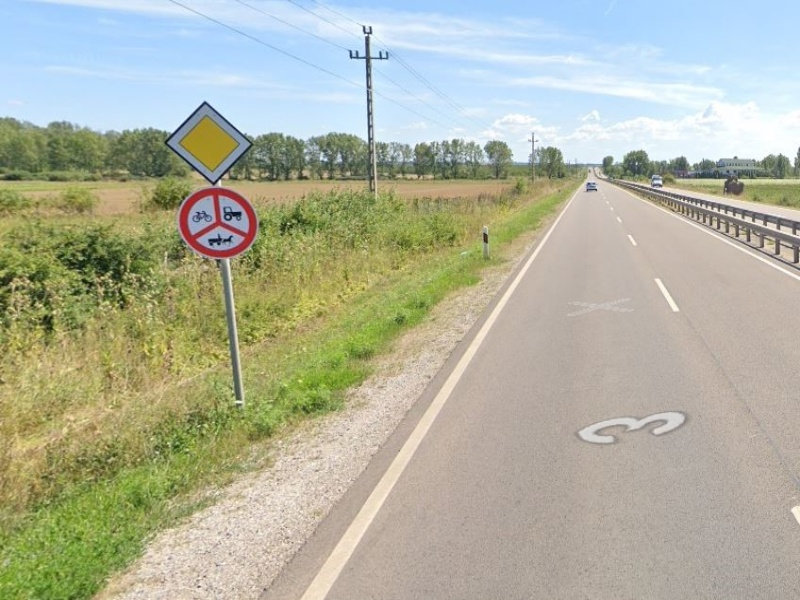fout: (162, 102, 259, 190)
